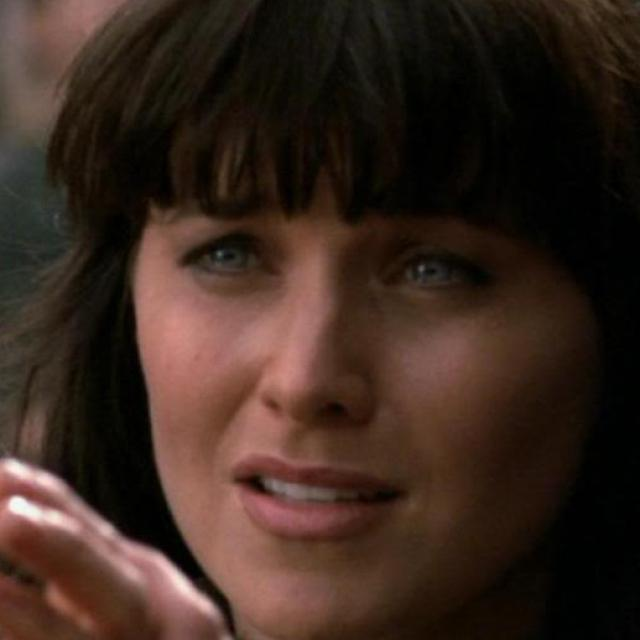Depress: (138, 183, 594, 639)
